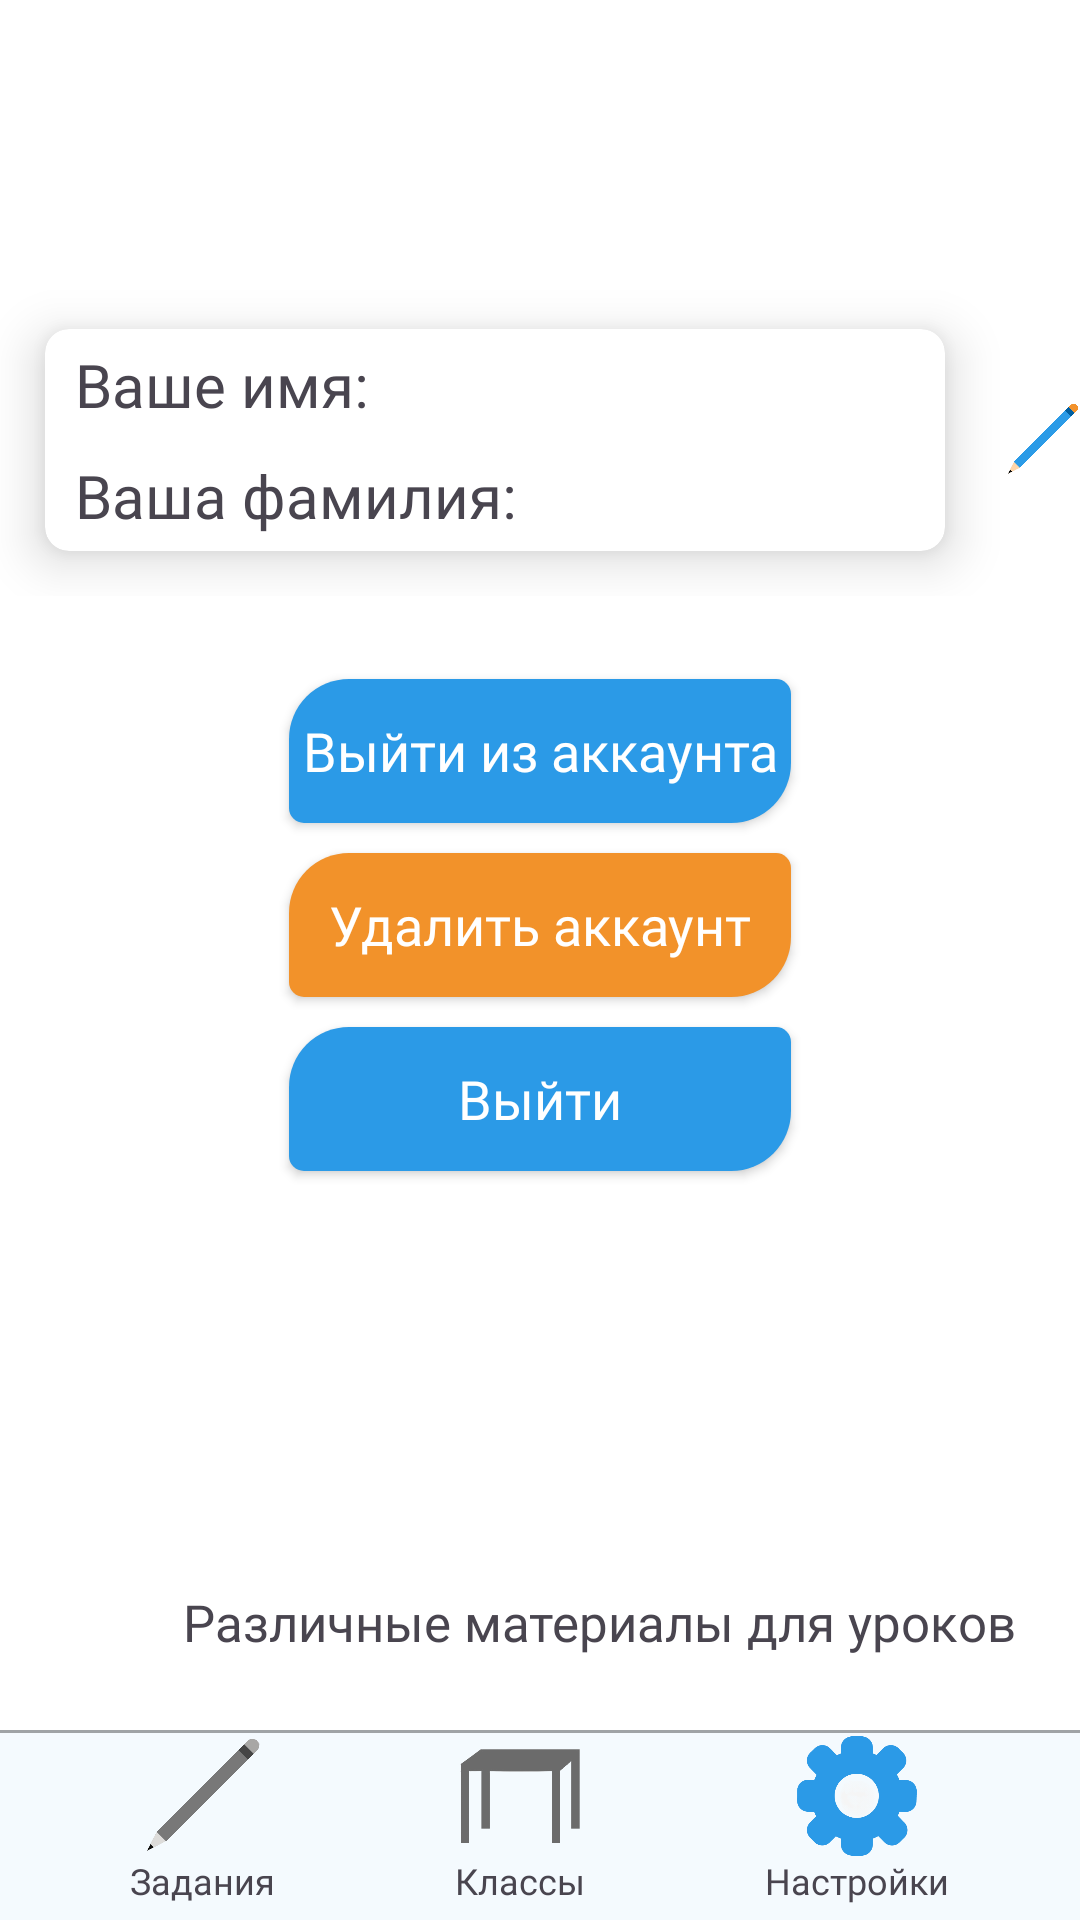

Named icons in this screenshot (1080×1920) and their centers, point (x, y):
desk: point (520, 1796)
pencil: point (1043, 439)
